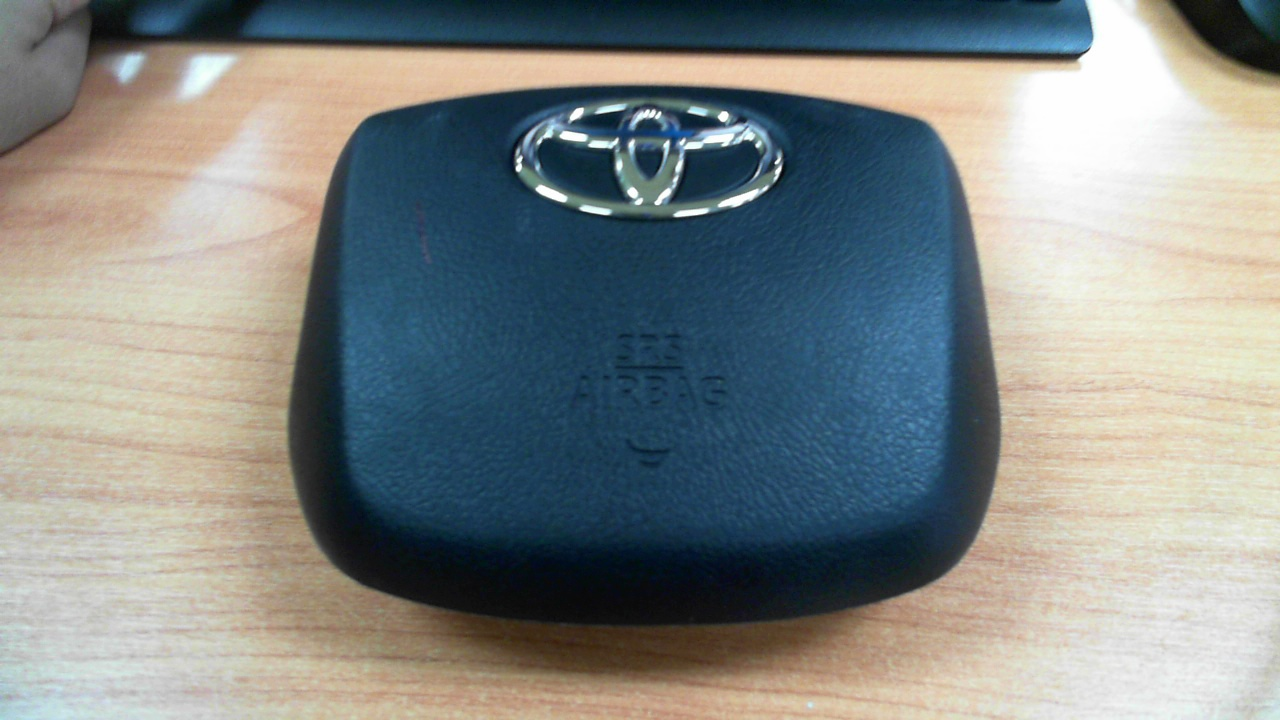Airbag: (284, 73, 1003, 629)
Toyota: (514, 97, 783, 219)
